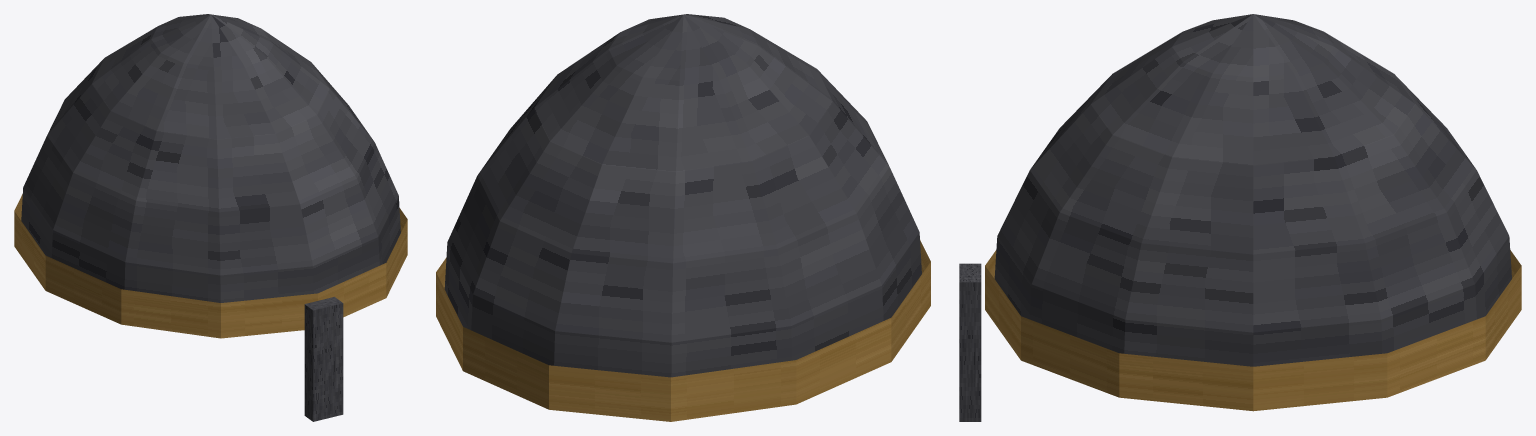
Rendered from nasalhelm.glb.
3 renders of one model, left to right at view 1: azimuth 30°, elevation 25°; view 2: azimuth 150°, elevation 25°; view 3: azimuth 270°, elevation 25°, orthographic. The views are drawn at different scales.
Visible parts, largest first — view 1: A_NasalHelm; view 2: A_NasalHelm; view 3: A_NasalHelm.
Part boxes in pixels (x1,y1,x2,y2): A_NasalHelm: (14,14,407,421); A_NasalHelm: (436,14,930,421); A_NasalHelm: (959,14,1521,421).
Bounding box in the file's own units: 0.264 × 0.2425 × 0.3098.
2 materials, 2 textured.
